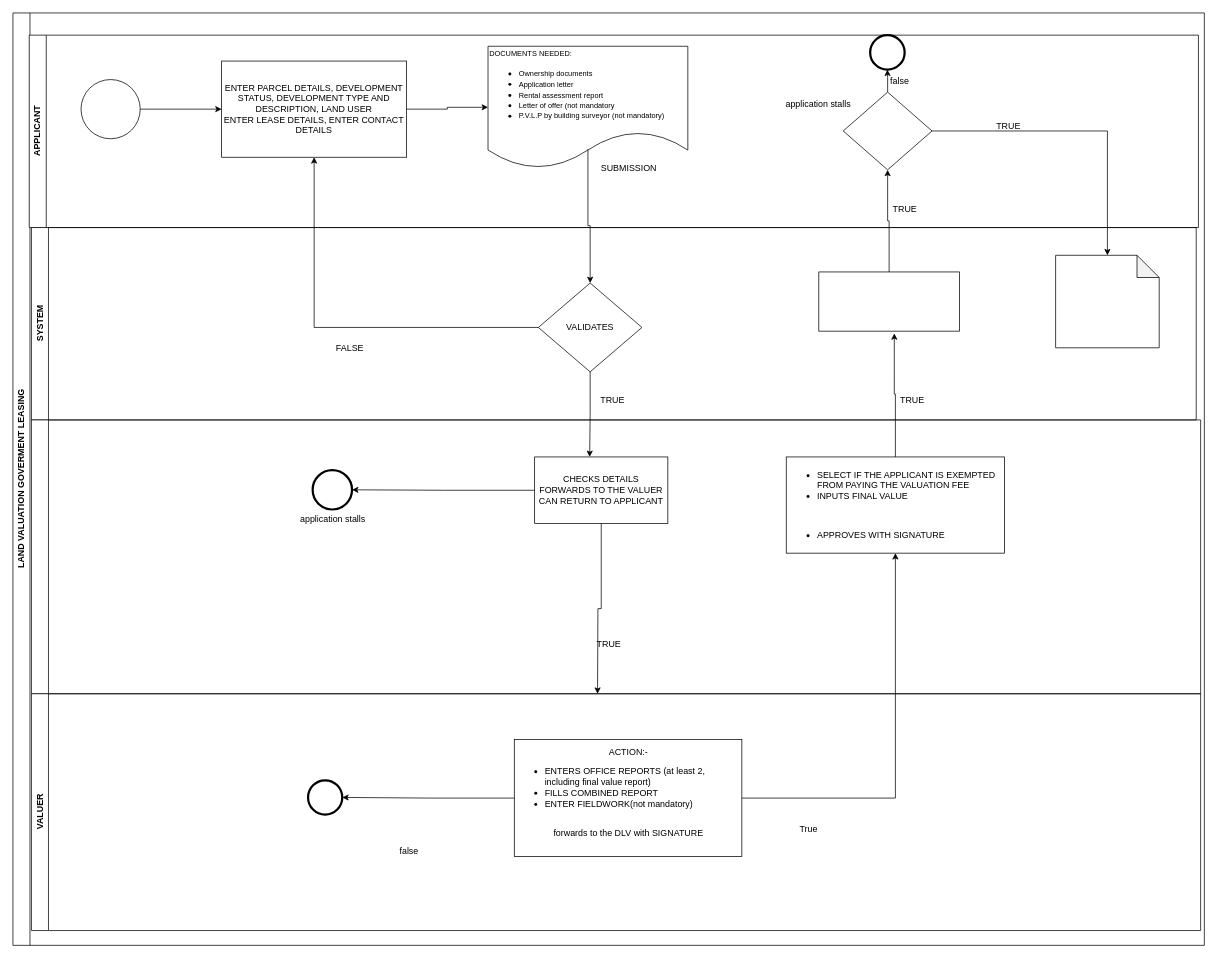
Image size: 1217x958. Some labels were removed from this diagram. Each missing label, with the box of its shape:
DLV: (31, 419, 1201, 694)
OUTPUT DOCUMENTS VALUATION CERTIFICATE: (1055, 255, 1159, 348)
PAY VALUATION FEES: (842, 91, 932, 170)
START: (80, 79, 140, 139)
system generates : Valuation certificate Valuation fees: (818, 271, 959, 331)
